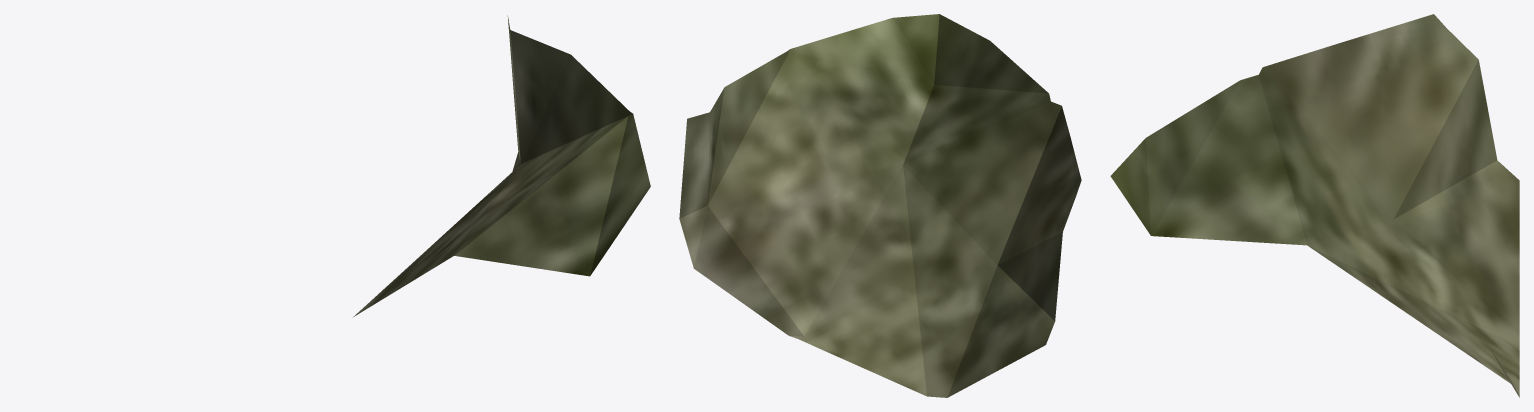
The picture shows the model from 3 angles, left to right: view 1: azimuth 30°, elevation 25°; view 2: azimuth 150°, elevation 25°; view 3: azimuth 270°, elevation 25°; orthographic projection. The views are drawn at different scales.
Bounding box in the file's own units: 0.9139 × 0.5222 × 0.7362.
1 material, 1 textured.
